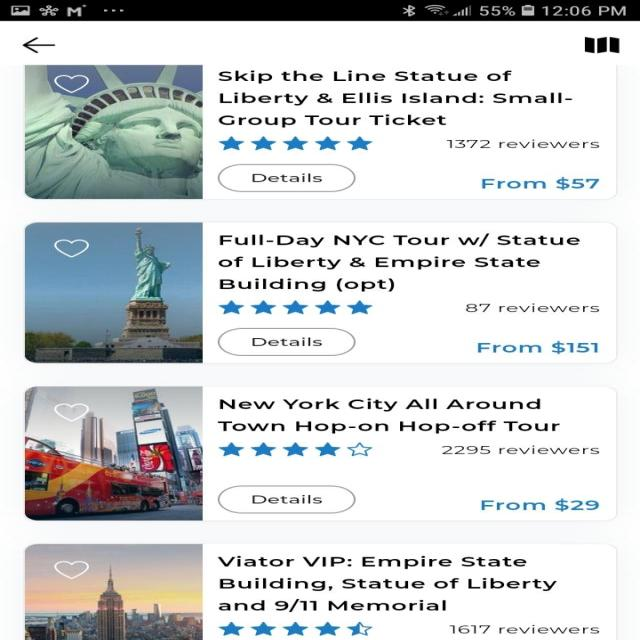Icon: (216, 300, 372, 314), (218, 621, 372, 635), (218, 442, 372, 456), (218, 136, 372, 150), (53, 402, 89, 421), (54, 560, 88, 578), (54, 239, 88, 257), (54, 75, 88, 93), (584, 37, 620, 54), (22, 37, 56, 54)
Image: (25, 223, 203, 363), (25, 386, 203, 521), (25, 65, 203, 199), (24, 544, 202, 640)
Text: (216, 233, 580, 292), (218, 70, 572, 128), (217, 555, 557, 612), (217, 398, 560, 433), (476, 340, 596, 354), (480, 498, 599, 512), (481, 177, 598, 190), (448, 624, 599, 634), (442, 445, 600, 454), (445, 139, 599, 148), (464, 303, 598, 312)
TextButton: (217, 484, 356, 514), (217, 327, 356, 356), (217, 164, 356, 193)
